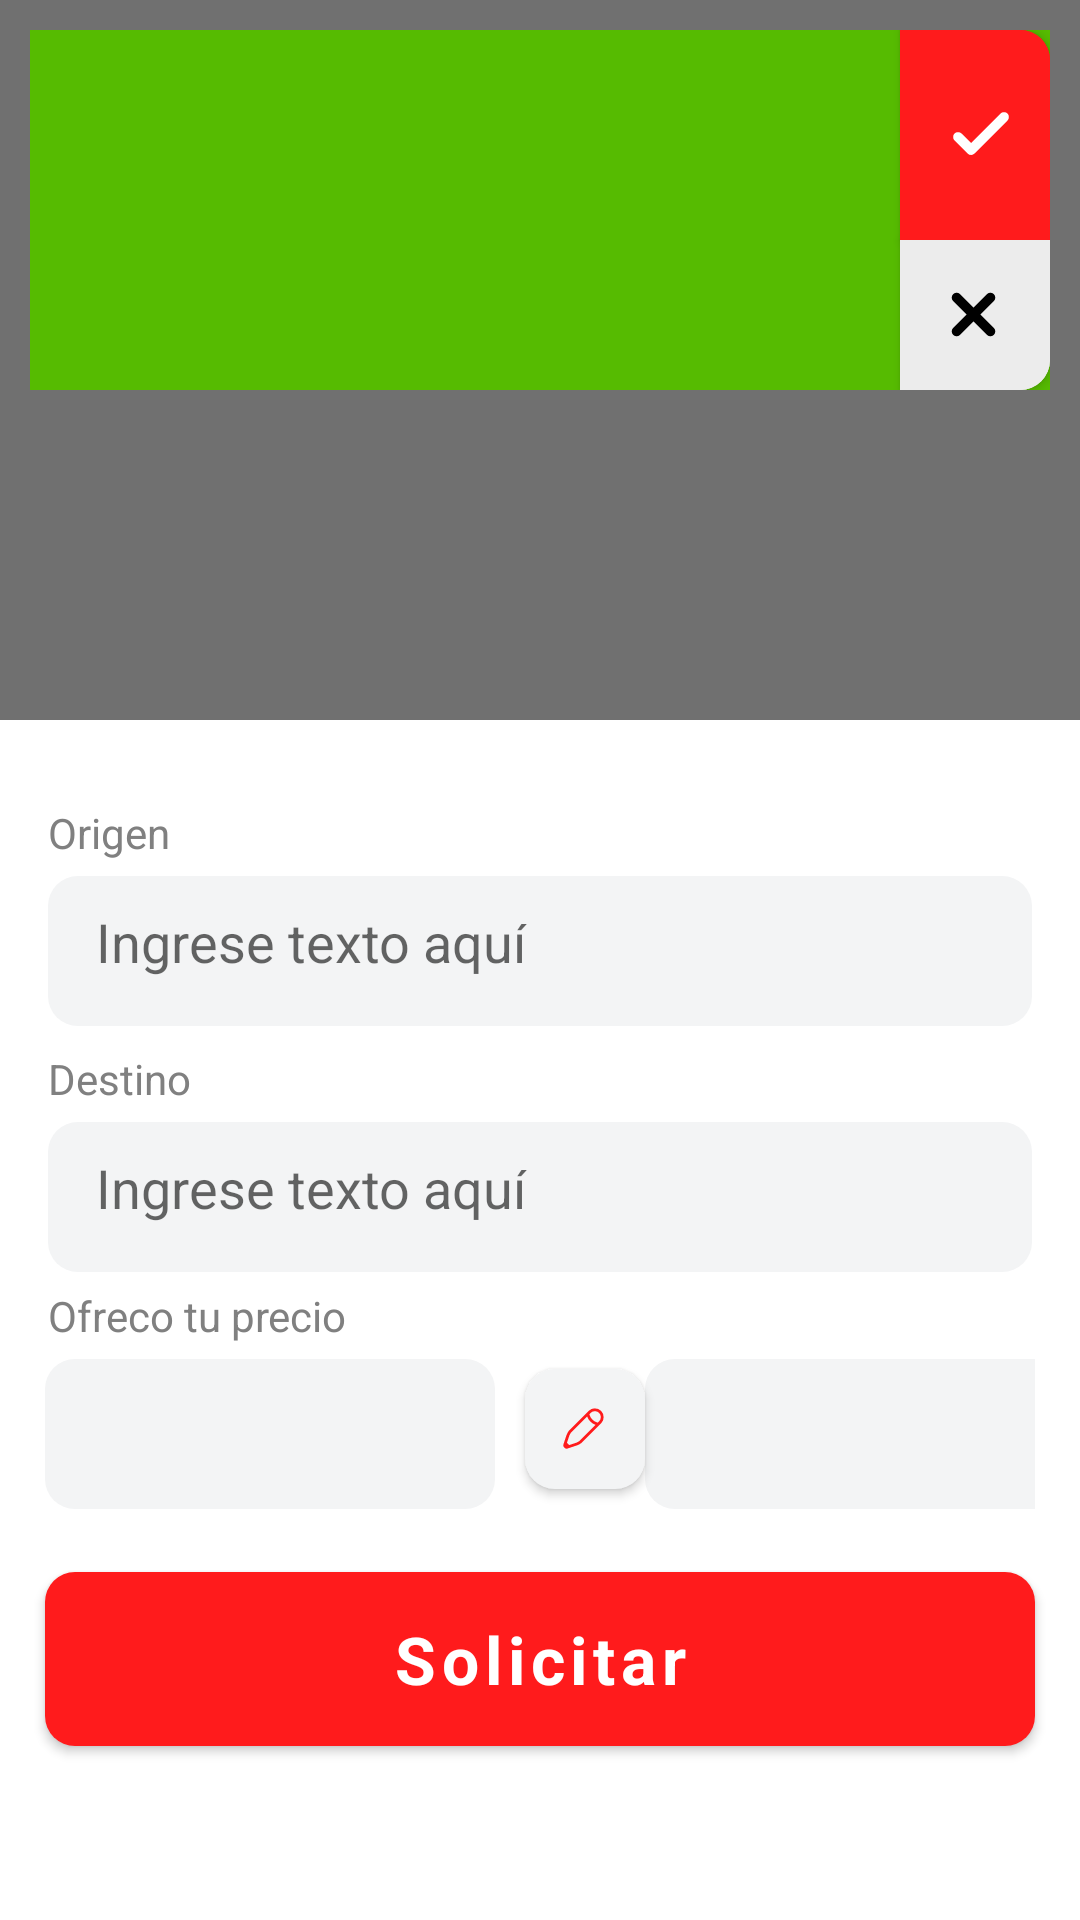

Point at icon controls on the screen. Image size 1080x1920, points as [x,y].
check: [975,135]
close: [975,315]
pen: [585,1448]
